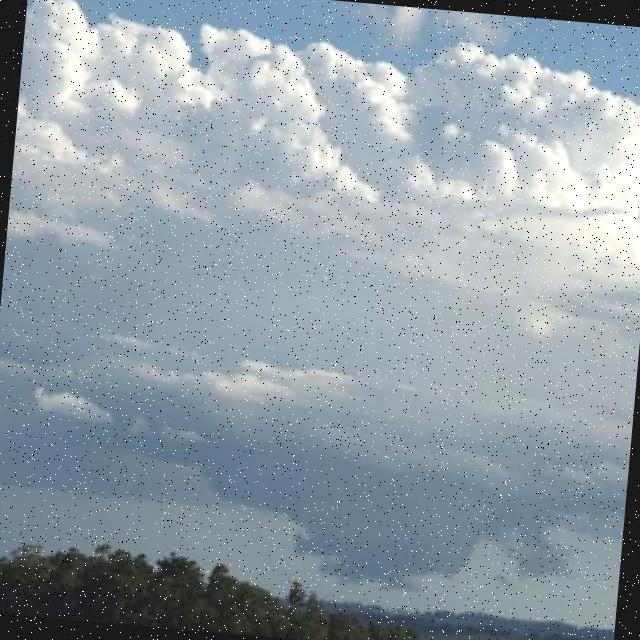Cu: (1, 1, 640, 499)
